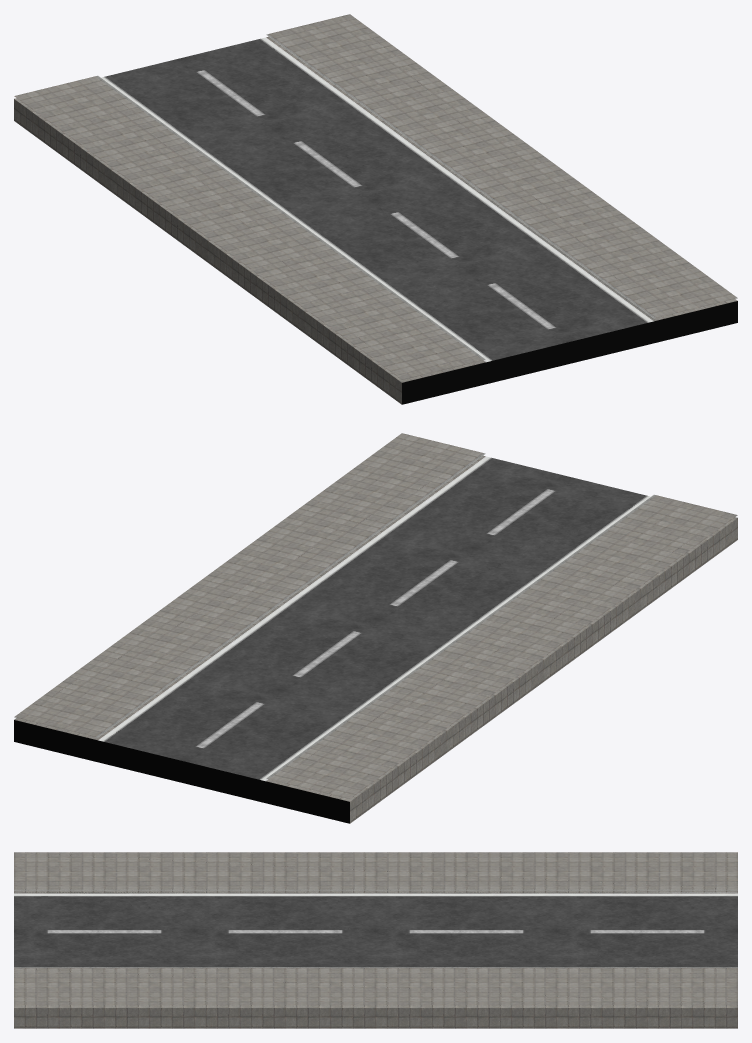
Rendered from SingleStraight_3.fbx.
The picture shows the model from 3 angles, top to bottom: view 1: azimuth 30°, elevation 25°; view 2: azimuth 150°, elevation 25°; view 3: azimuth 270°, elevation 25°; orthographic projection. The views are drawn at different scales.
Visible parts, largest first — view 1: DmaterialC150, DmaterialA150, DmaterialB150, DmaterialD150; view 2: DmaterialC150, DmaterialA150, DmaterialB150, DmaterialD150; view 3: DmaterialC150, DmaterialA150, DmaterialD150, DmaterialE150.
Part boxes in pixels (<box>): DmaterialC150: <box>14,14,737,404</box>; DmaterialA150: <box>101,37,653,362</box>; DmaterialB150: <box>402,301,737,404</box>; DmaterialD150: <box>95,34,655,359</box>; DmaterialC150: <box>14,433,737,823</box>; DmaterialA150: <box>98,456,650,781</box>; DmaterialB150: <box>14,720,349,823</box>; DmaterialD150: <box>96,453,656,778</box>; DmaterialC150: <box>14,852,737,1028</box>; DmaterialA150: <box>14,893,737,967</box>; DmaterialD150: <box>14,889,737,968</box>; DmaterialE150: <box>15,892,737,893</box>.
Bounding box in the file's own units: 25.6 × 1.8 × 51.2.
